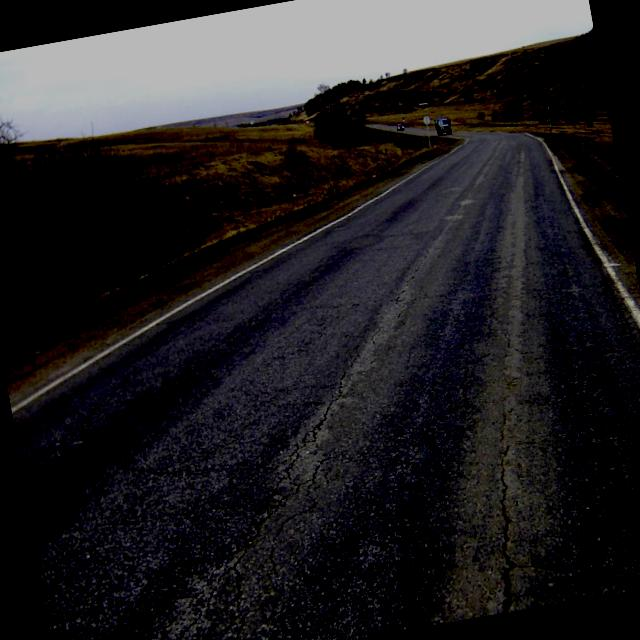road: (400, 127, 437, 135), (258, 246, 277, 257), (229, 273, 232, 276)
